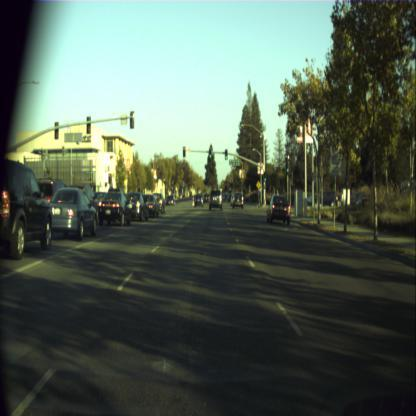Green: (285, 160, 289, 174), (224, 148, 228, 160), (208, 147, 212, 158), (263, 172, 266, 182)
Red: (182, 146, 186, 157), (108, 173, 111, 183)
